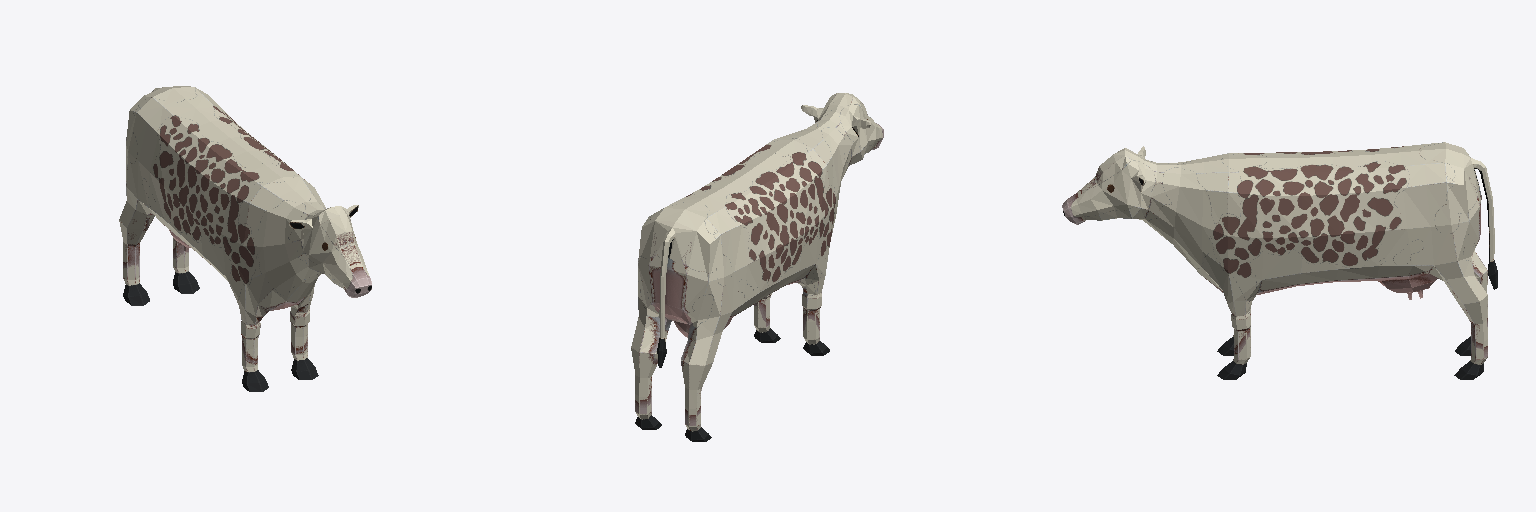
The picture shows the model from 3 angles: view 1: azimuth 30°, elevation 25°; view 2: azimuth 150°, elevation 25°; view 3: azimuth 270°, elevation 25°; orthographic projection.
Parts seen in each view (by area): view 1: Cow_mesh; view 2: Cow_mesh; view 3: Cow_mesh.
Part boxes in pixels (x1,y1,x2,y2): Cow_mesh: (119, 86, 371, 391); Cow_mesh: (631, 93, 883, 441); Cow_mesh: (1062, 142, 1497, 379).
Size of the model in its own units: 3.36 by 7.42 by 13.65.
1 materials, 1 textured.